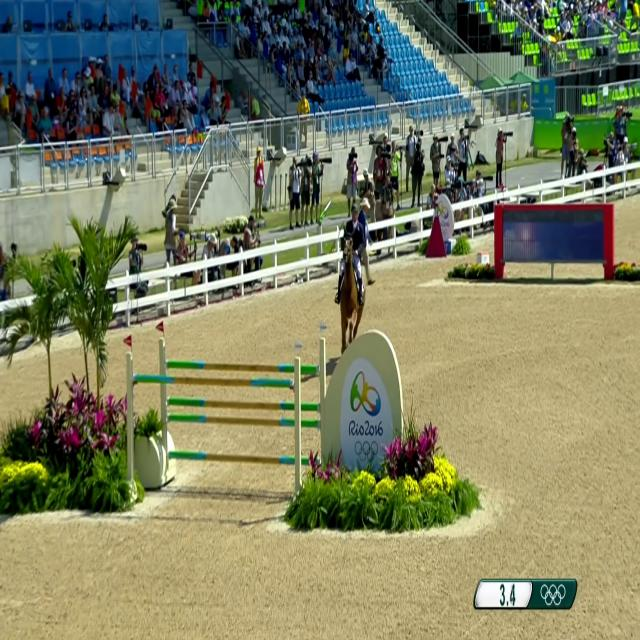Horse Running: (332, 210, 382, 358)
